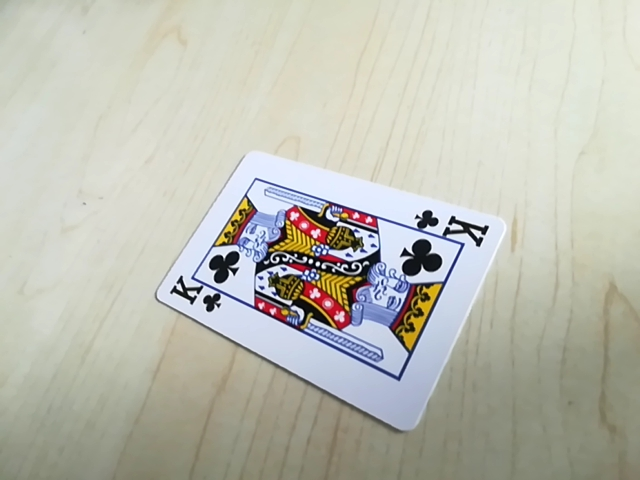mh k: (411, 208, 495, 242), (165, 285, 225, 318)
